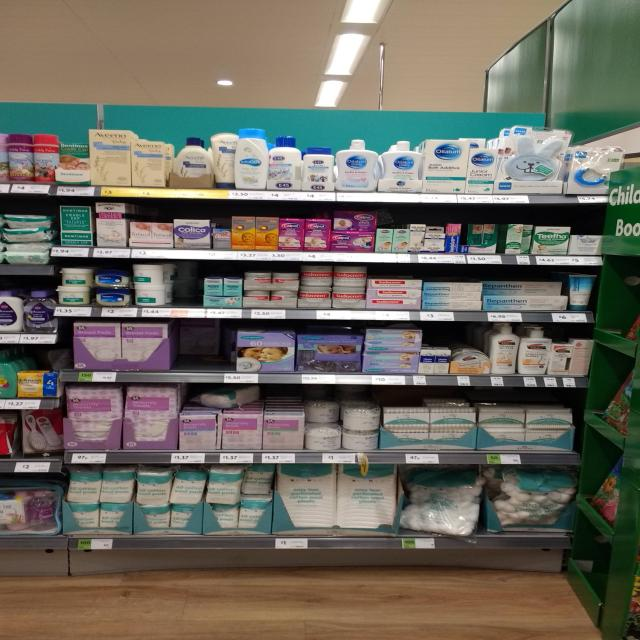void: (172, 264, 200, 308)
